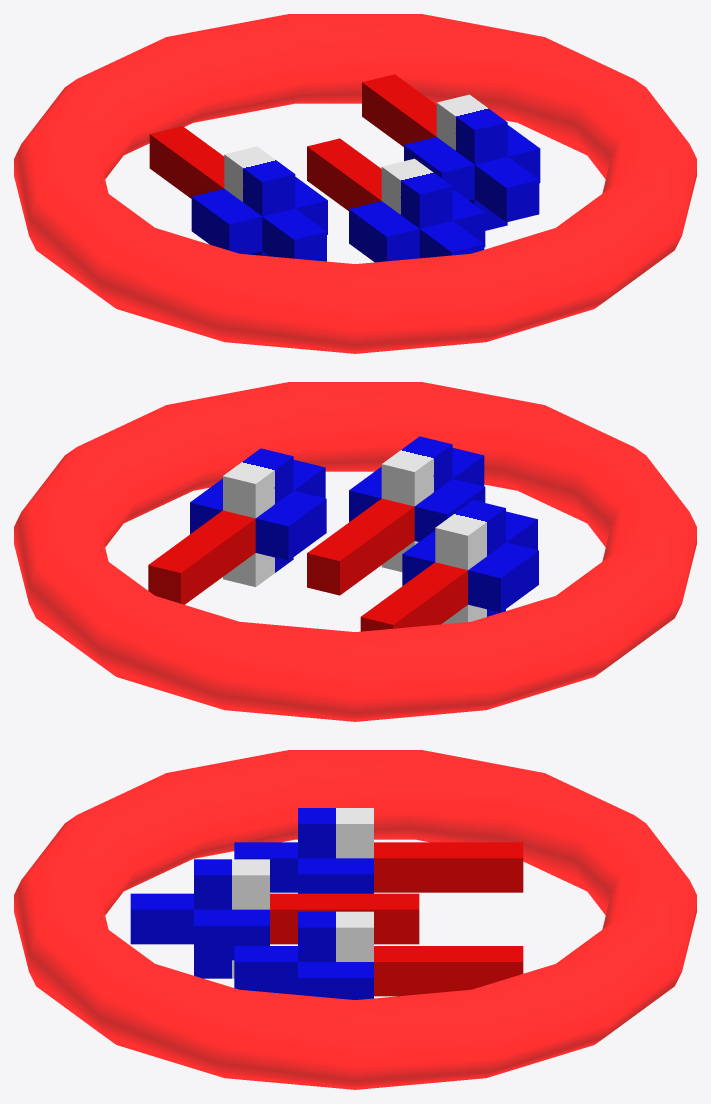
The model's file is MachineGun_PowerUp.fbx.
3 renders of one model, top to bottom at view 1: azimuth 30°, elevation 25°; view 2: azimuth 150°, elevation 25°; view 3: azimuth 270°, elevation 25°, orthographic.
Visible parts, largest first — view 1: polySurface1; view 2: polySurface1; view 3: polySurface1.
Part boxes in pixels (x1,y1,x2,y2): polySurface1: (14,14,696,353); polySurface1: (14,382,696,721); polySurface1: (14,750,696,1089).
Bounding box in the file's own units: 0.5231 × 0.0877 × 0.5259.
Materials: 2 (1 with a texture image).
